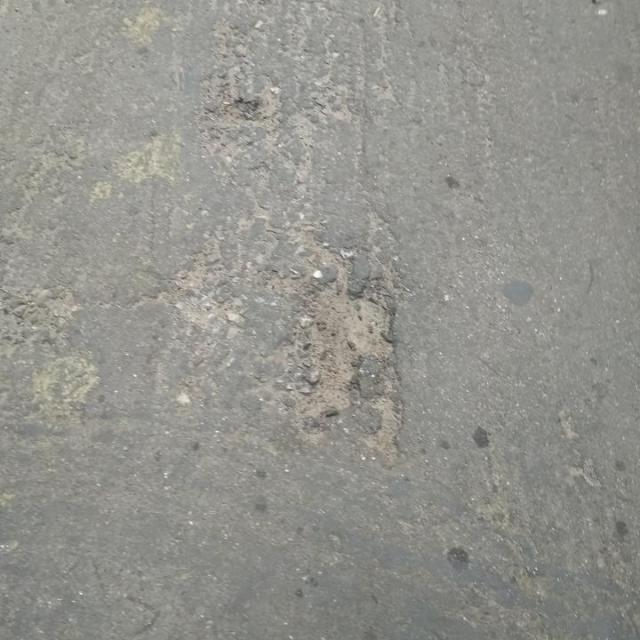pothole: (272, 275, 409, 448), (209, 95, 263, 126)
